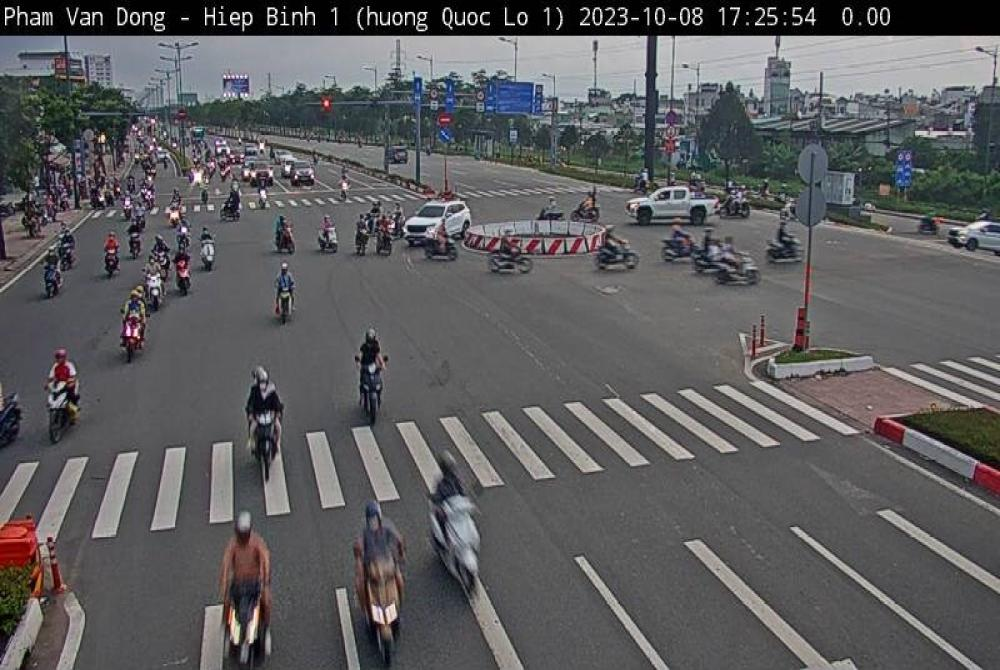car: (628, 188, 722, 225), (401, 200, 464, 243), (950, 222, 1000, 253), (290, 160, 315, 188), (250, 161, 273, 186)
motorbike: (594, 242, 642, 274), (486, 254, 532, 277)
